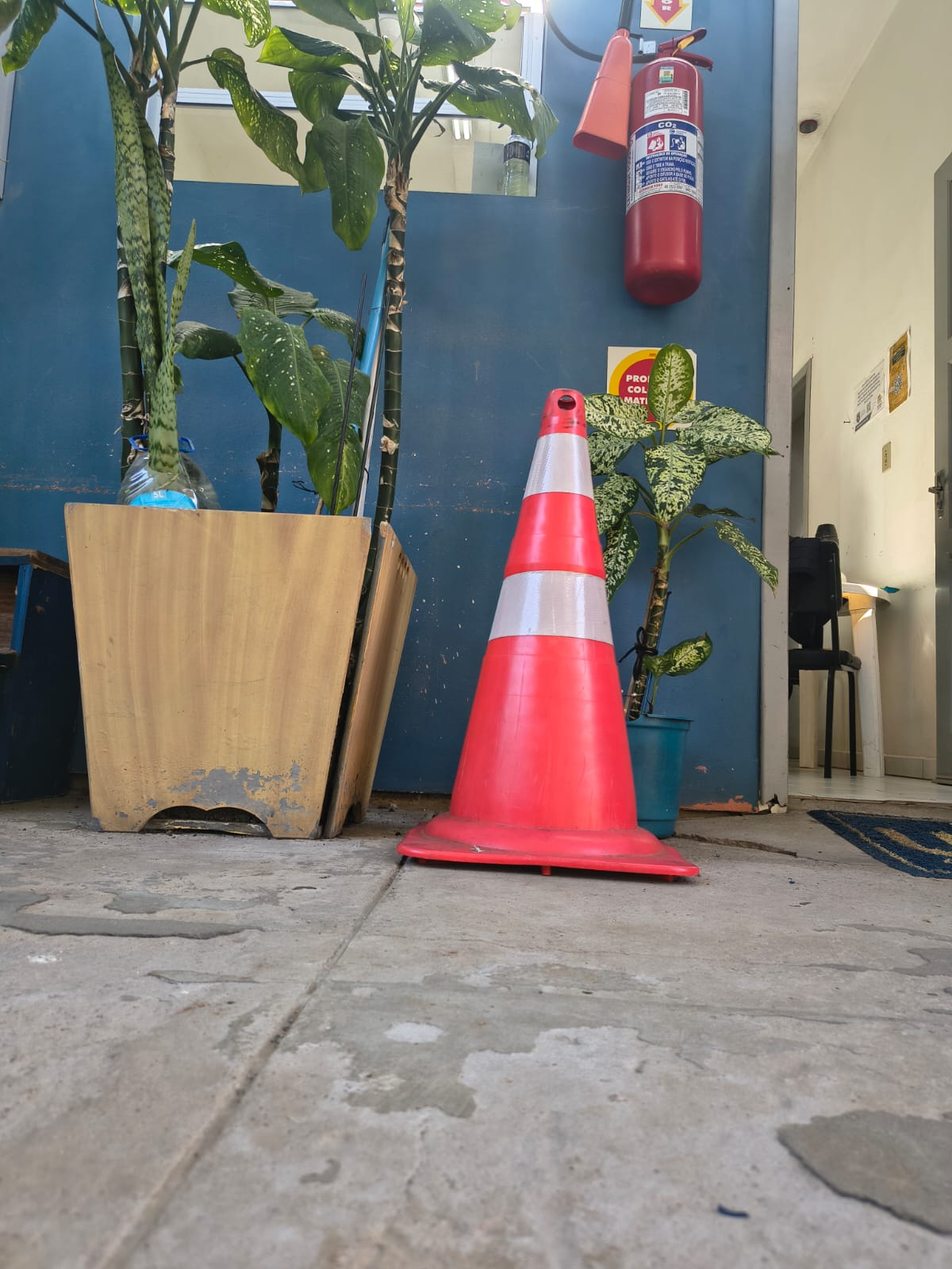cone: (386, 373, 711, 889)
